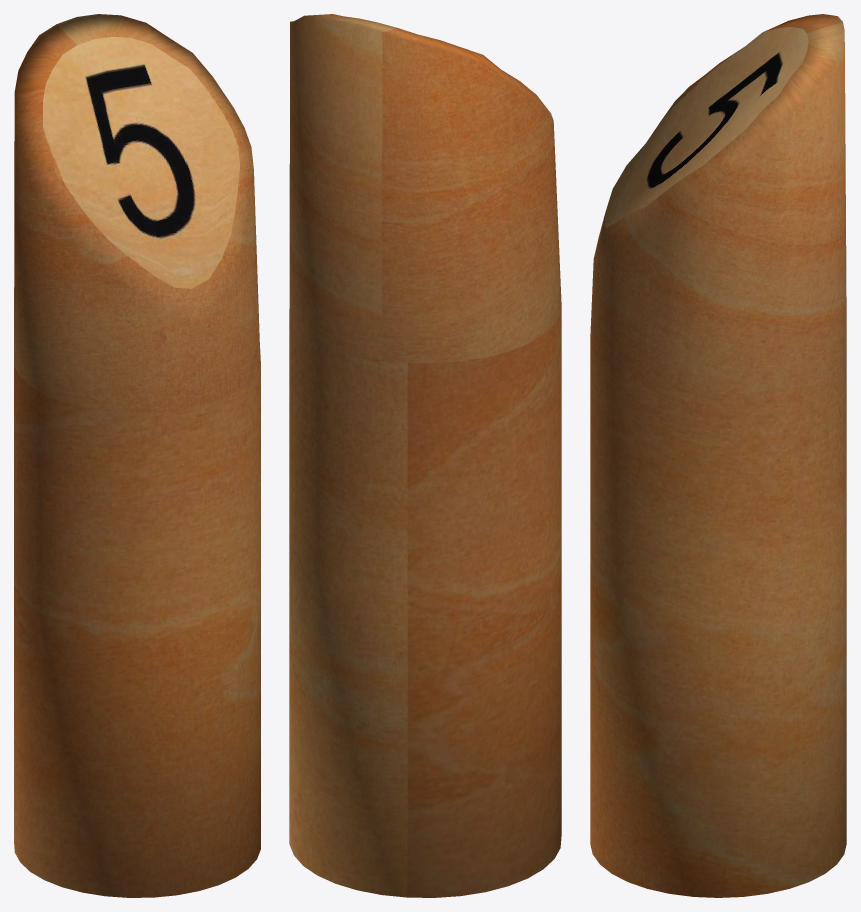
Rendered from molkky5.glb.
The picture shows the model from 3 angles, left to right: view 1: azimuth 30°, elevation 25°; view 2: azimuth 150°, elevation 25°; view 3: azimuth 270°, elevation 25°; orthographic projection. The views are drawn at different scales.
Visible parts, largest first — view 1: Cylinder.003; view 2: Cylinder.003; view 3: Cylinder.003.
Part boxes in pixels (box(x1,y1,x2,y2)): Cylinder.003: box(14, 14, 260, 897); Cylinder.003: box(289, 14, 561, 897); Cylinder.003: box(590, 14, 846, 897).
Bounding box in the file's own units: 0.4975 × 1.74 × 0.4975.
Materials: 1 (1 with a texture image).
